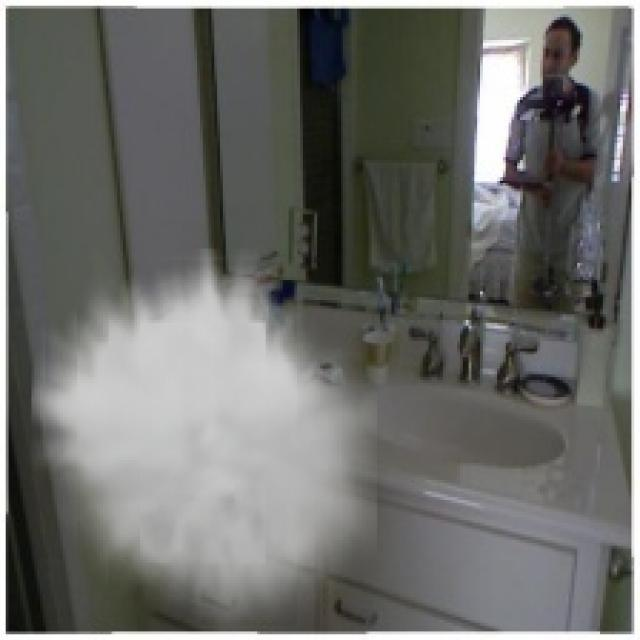Smoke: (32, 248, 377, 634)
